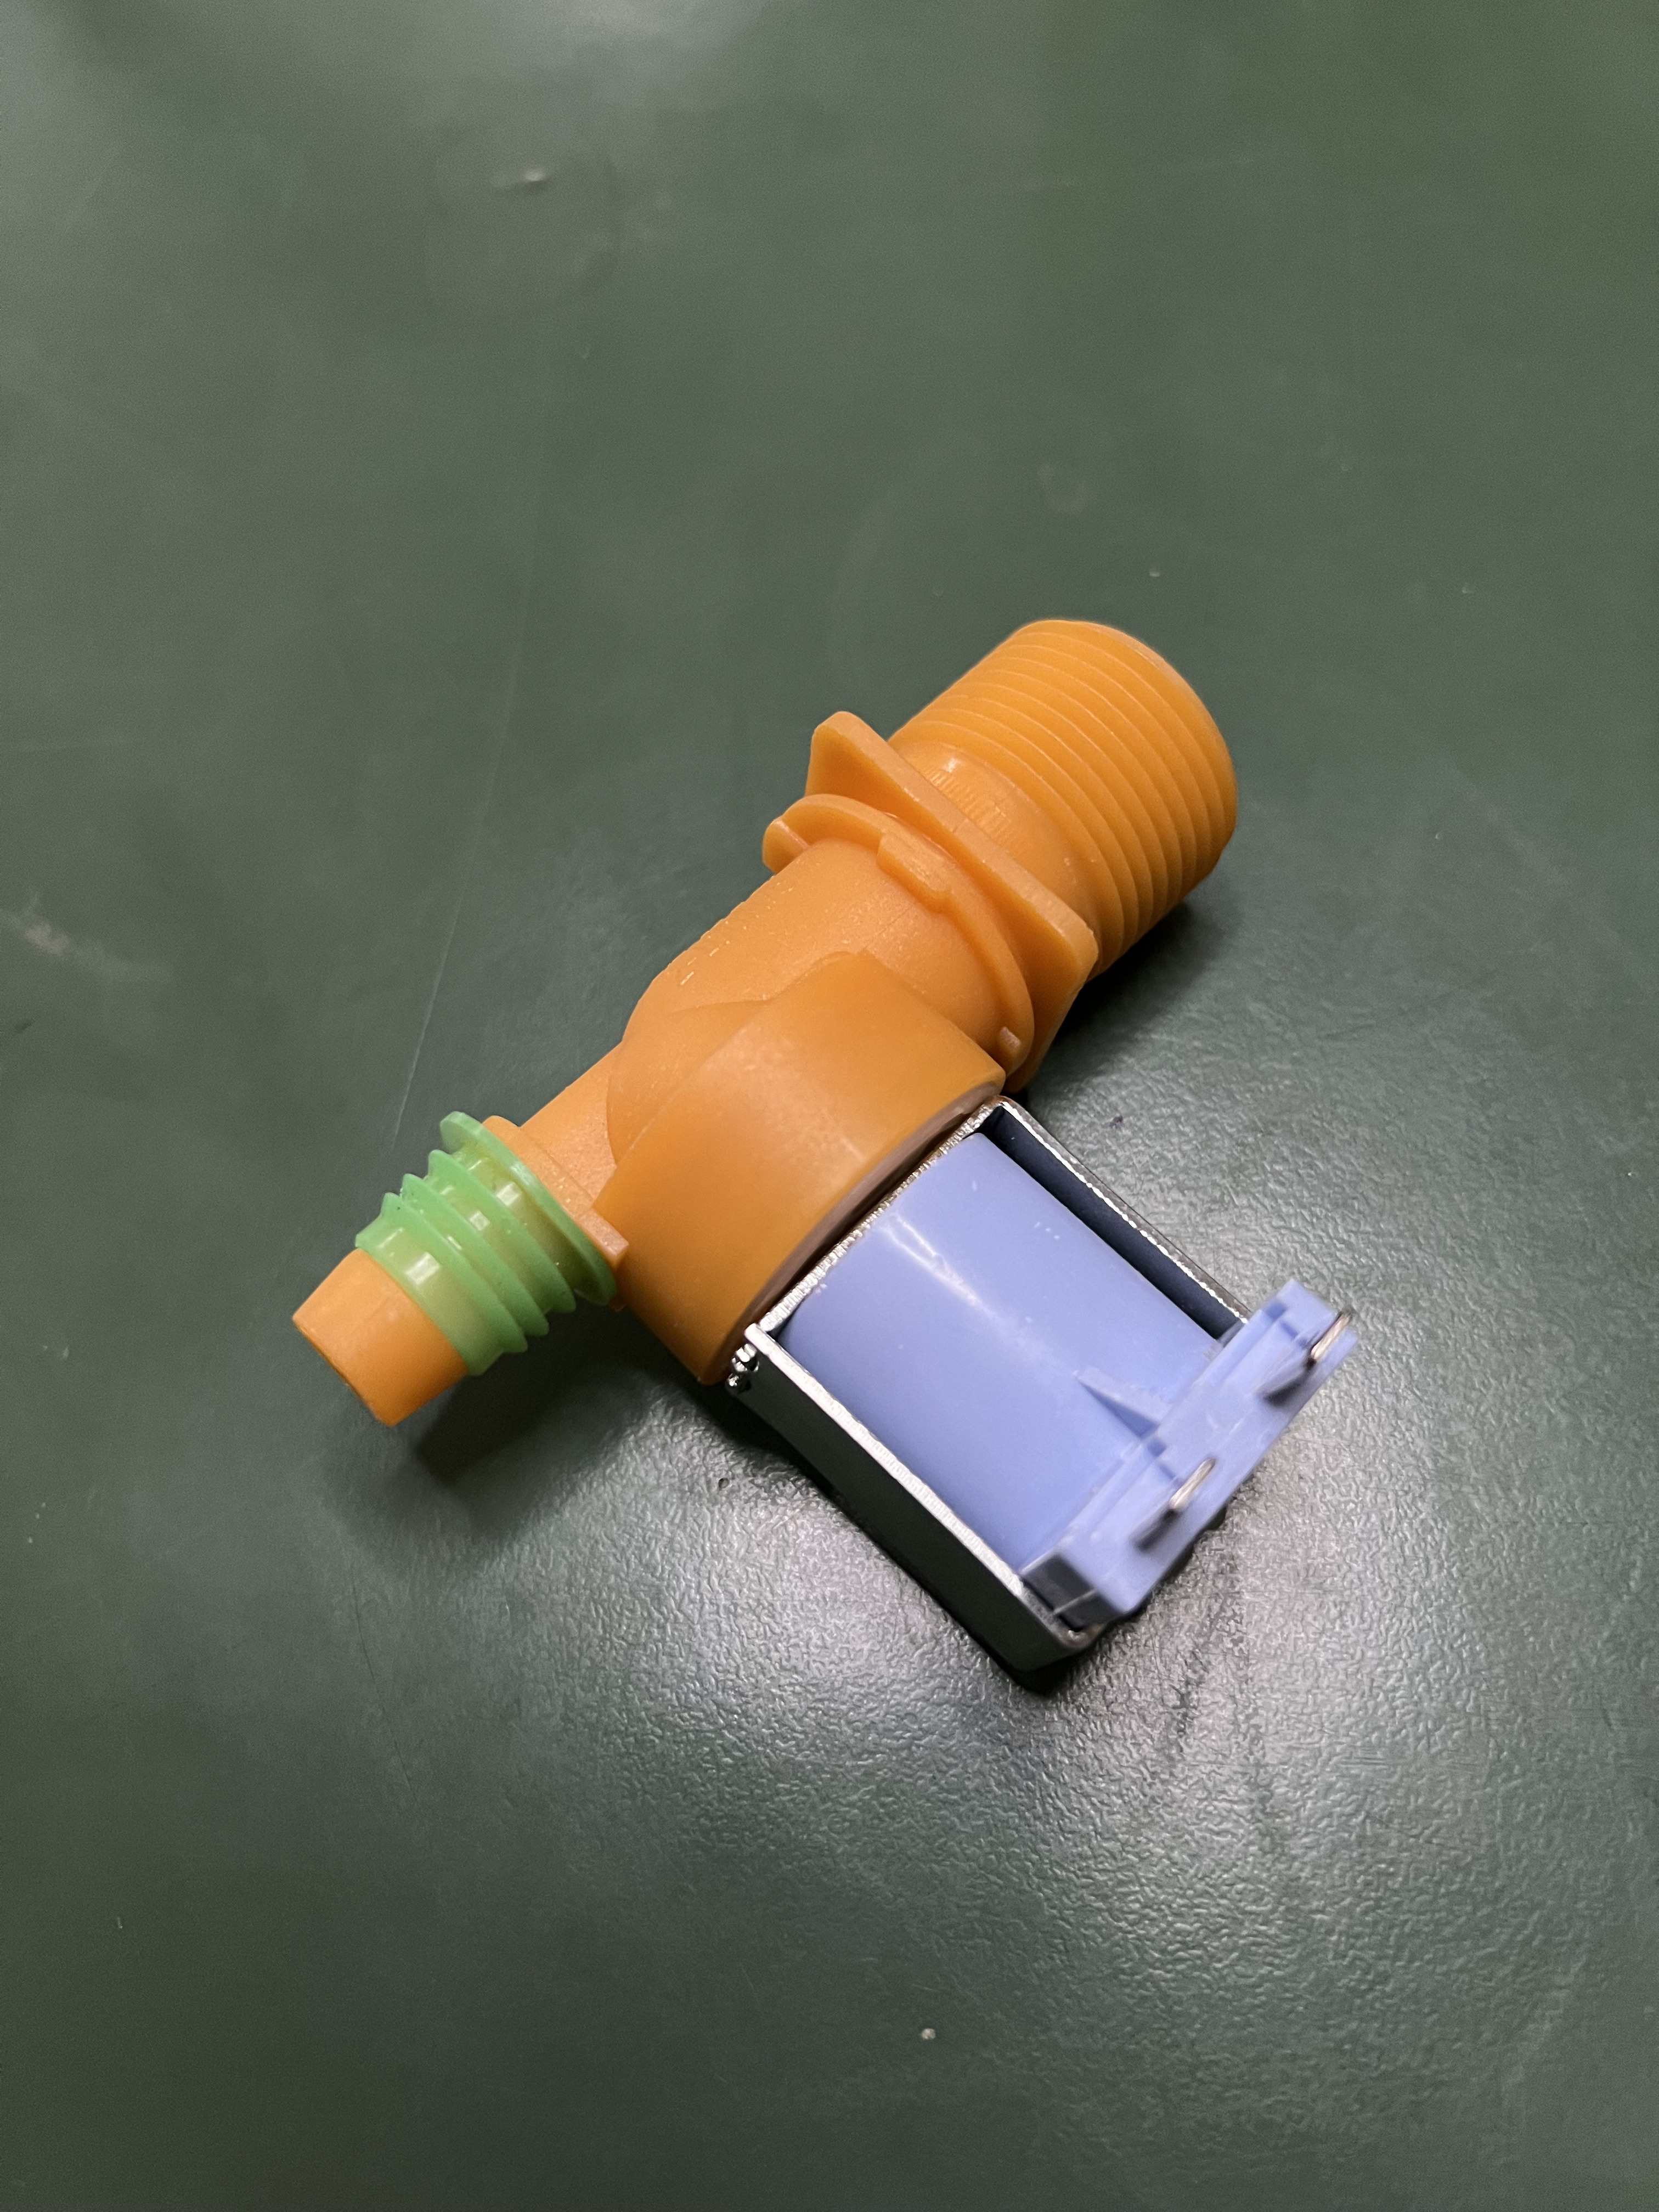ss_inlet_valves: (284, 601, 1406, 1726)
